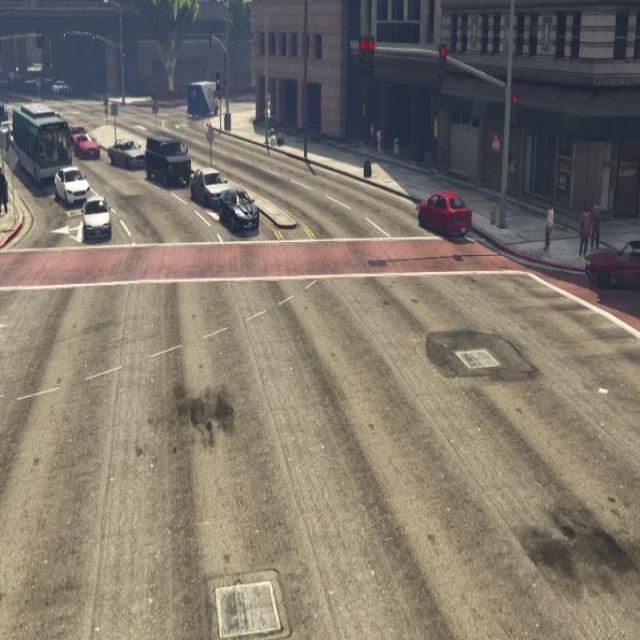Red-Signal: (354, 29, 378, 93), (436, 36, 452, 93), (510, 90, 523, 136)
